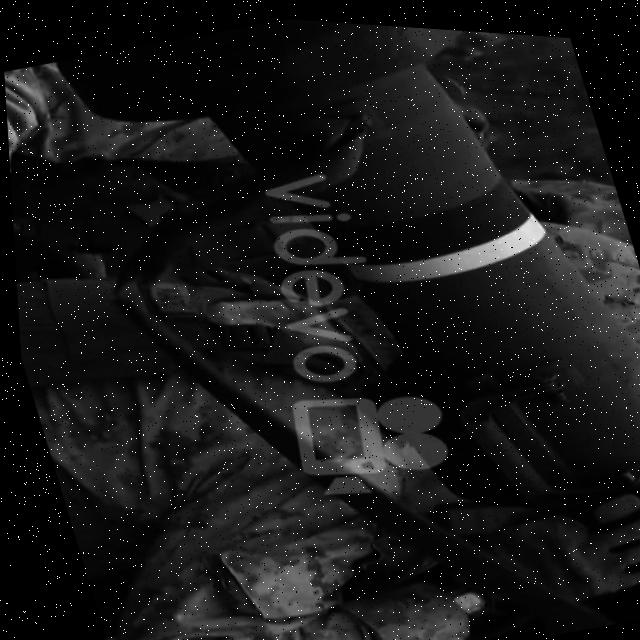rocket: (3, 0, 640, 631)
